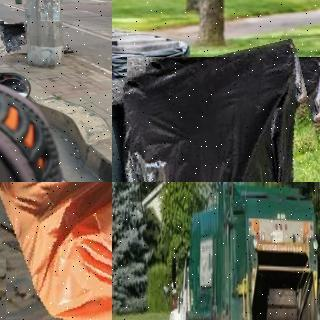Garbage: (114, 47, 320, 182), (0, 182, 112, 320), (0, 22, 30, 54)
